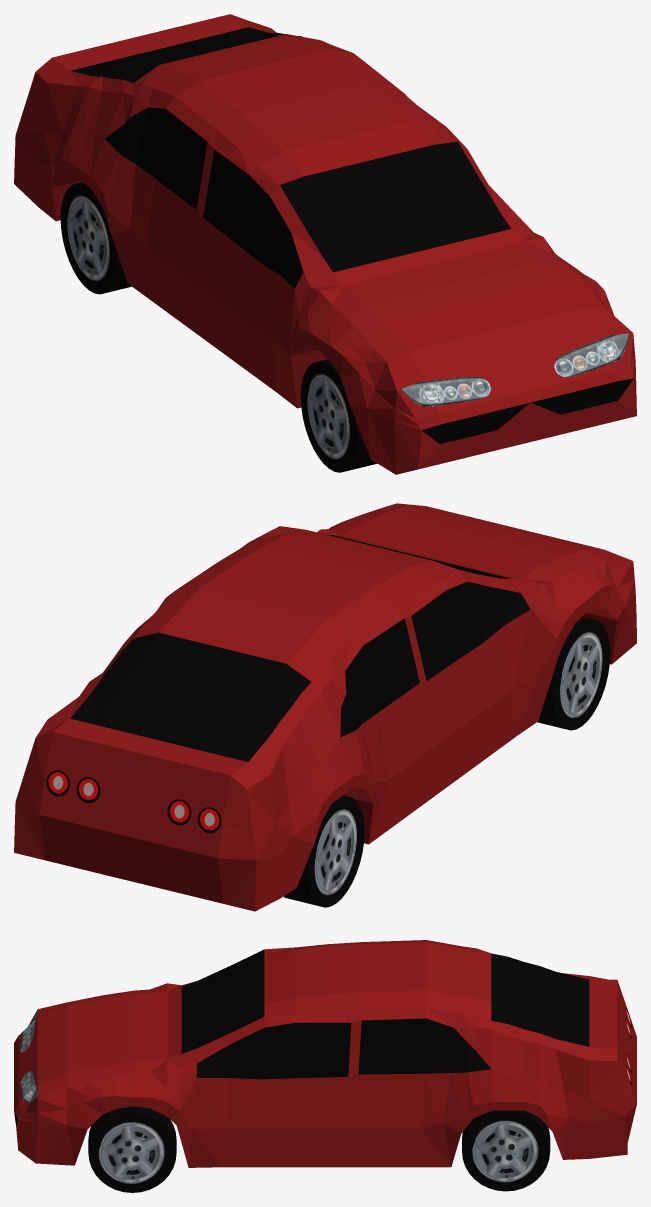
The model's file is car.obj.
The picture shows the model from 3 angles, top to bottom: view 1: azimuth 30°, elevation 25°; view 2: azimuth 150°, elevation 25°; view 3: azimuth 270°, elevation 25°; orthographic projection. The views are drawn at different scales.
Parts seen in each view (by area): view 1: Cube_Cube.001_Materia, Cube.002_Cube.001, Cube_Cube.001_Mat, Cube.002_Cube.002_Cube.002_Cube.001, Cylinder.005_Cyli, Cylinder.004_Cyli, Cube_Cube.001_Mat.002, Cube.002_Cube.001_Mat; view 2: Cube_Cube.001_Materia, Cube.002_Cube.001, Cube_Cube.001_Mat, Cube.002_Cube.002_Cube.002_Cube.001, Cube_Cube.001_Mat.001, Cube.002_Cube_Cube.002_Cube.001, Cylinder.005_Cyli, Cylinder.004_Cyli, Cylinder.005_Cylinder; view 3: Cube.002_Cube.001, Cube.002_Cube.002_Cube.002_Cube.001, Cube_Cube.001_Materia, Cube_Cube.001_Mat, Cylinder.003_Cylinder, Cylinder_Cylinder.001, Cylinder.003_Cyli, Cube.002_Cube.001_Mat, Cylinder_Cylinder, Cube_Cube.001_Mat.002, Cube.002_Cube_Cube.002_Cube.001, Cube_Cube.001_Mat.001.
Boxes of the visible parts, bbox=[...] form: Cube_Cube.001_Materia: bbox=[14, 36, 530, 474]; Cube.002_Cube.001: bbox=[141, 14, 636, 444]; Cube_Cube.001_Mat: bbox=[70, 48, 529, 444]; Cube.002_Cube.002_Cube.002_Cube.001: bbox=[160, 27, 633, 414]; Cylinder.005_Cyli: bbox=[300, 361, 357, 472]; Cylinder.004_Cyli: bbox=[60, 183, 117, 294]; Cube_Cube.001_Mat.002: bbox=[397, 365, 495, 418]; Cube.002_Cube.001_Mat: bbox=[547, 333, 633, 383]; Cube_Cube.001_Materia: bbox=[128, 528, 636, 911]; Cube.002_Cube.001: bbox=[14, 503, 514, 881]; Cube_Cube.001_Mat: bbox=[159, 549, 530, 761]; Cube.002_Cube.002_Cube.002_Cube.001: bbox=[70, 532, 421, 740]; Cube_Cube.001_Mat.001: bbox=[160, 761, 230, 858]; Cube.002_Cube_Cube.002_Cube.001: bbox=[39, 732, 109, 828]; Cylinder.005_Cyli: bbox=[553, 619, 610, 730]; Cylinder.004_Cyli: bbox=[308, 796, 364, 907]; Cylinder.005_Cylinder: bbox=[537, 616, 591, 728]; Cube.002_Cube.001: bbox=[14, 966, 636, 1167]; Cube.002_Cube.002_Cube.002_Cube.001: bbox=[14, 978, 589, 1125]; Cube_Cube.001_Materia: bbox=[14, 940, 636, 1076]; Cube_Cube.001_Mat: bbox=[181, 949, 589, 1019]; Cylinder.003_Cylinder: bbox=[88, 1113, 176, 1192]; Cylinder_Cylinder.001: bbox=[462, 1111, 549, 1191]; Cylinder.003_Cyli: bbox=[88, 1106, 176, 1151]; Cube.002_Cube.001_Mat: bbox=[18, 1063, 37, 1113]; Cylinder_Cylinder: bbox=[462, 1110, 550, 1150]; Cube_Cube.001_Mat.002: bbox=[18, 1010, 37, 1057]; Cube.002_Cube_Cube.002_Cube.001: bbox=[617, 1026, 636, 1103]; Cube_Cube.001_Mat.001: bbox=[617, 980, 636, 1057].
Bounding box in the file's own units: 3.23 × 2.69 × 8.38.
6 materials, 6 textured.
